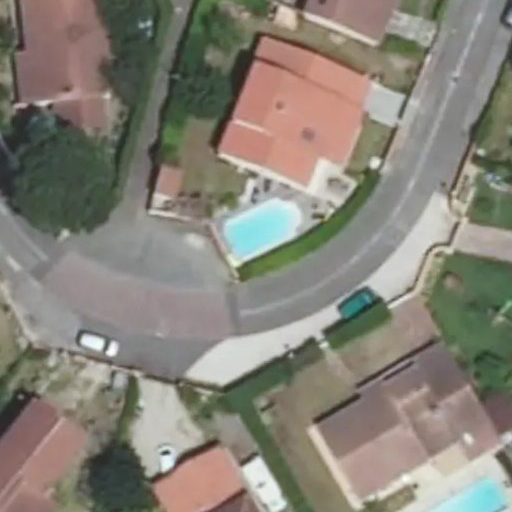pool: (218, 238, 298, 240)
